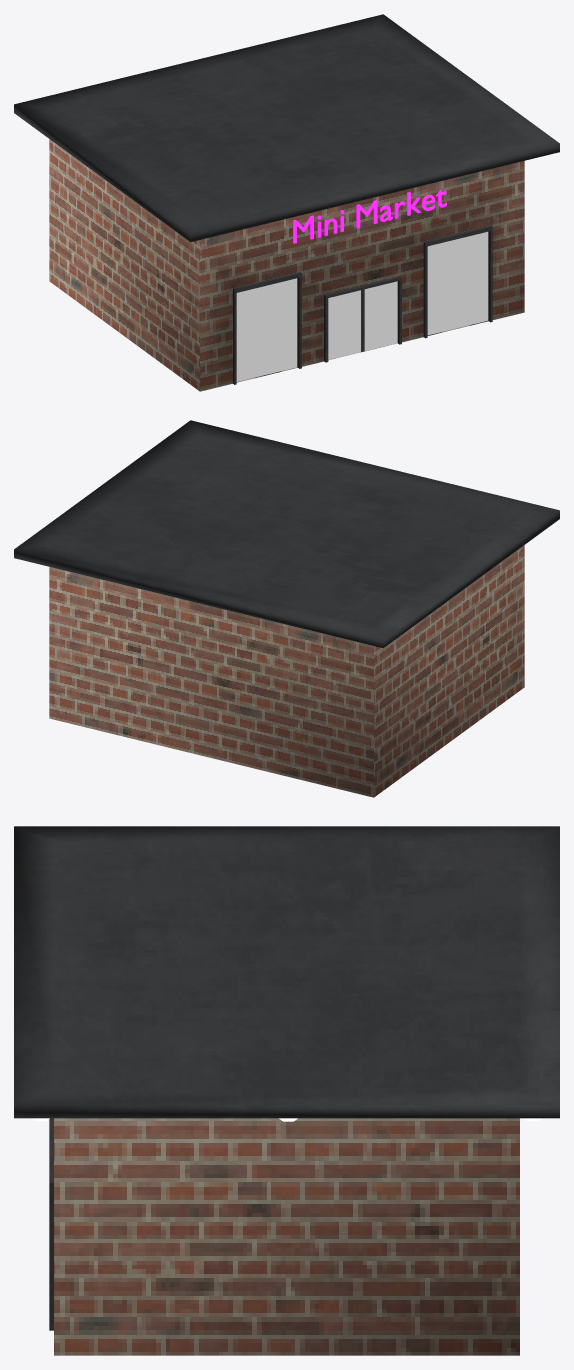
Rendered from Market.glb.
3 views of the same model, one above another, from view 1: azimuth 30°, elevation 25°; view 2: azimuth 150°, elevation 25°; view 3: azimuth 270°, elevation 25° (orthographic). The views are drawn at different scales.
Parts seen in each view (by area): view 1: Frame, WindowFrameLeft, WindowFrameRight, DoorLeft, DoorRight, Name, DoorFrame; view 2: Frame; view 3: Frame, WindowFrameLeft.
Part boxes in pixels (x1,y1,x2,y2): Frame: [14, 14, 559, 391]; WindowFrameLeft: [423, 225, 492, 338]; WindowFrameRight: [233, 272, 301, 384]; DoorLeft: [362, 281, 397, 351]; DoorRight: [328, 290, 362, 359]; Name: [293, 189, 446, 243]; DoorFrame: [324, 276, 401, 362]; Frame: [14, 420, 559, 797]; Frame: [14, 826, 559, 1355]; WindowFrameLeft: [49, 1132, 53, 1330].
Bounding box in the file's own units: 11.61 × 5.2 × 9.61.
10 materials, 7 textured.
